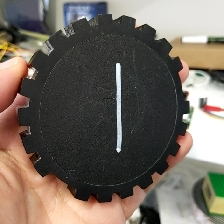gear: (16, 12, 191, 204)
missing: (30, 152, 91, 203), (169, 54, 193, 116)
